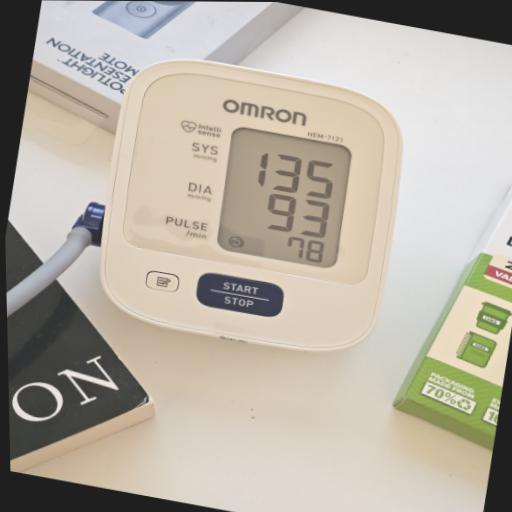lcd display: (211, 125, 358, 271)
